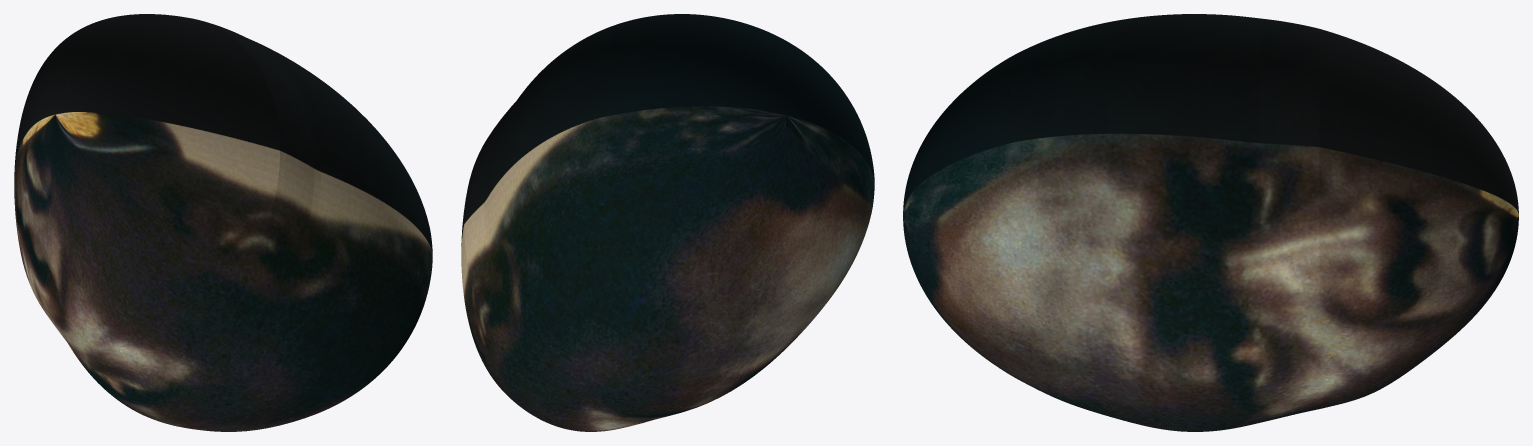
File: idi_amin_face.glb
The picture shows the model from 3 angles, left to right: view 1: azimuth 30°, elevation 25°; view 2: azimuth 150°, elevation 25°; view 3: azimuth 270°, elevation 25°; orthographic projection. The views are drawn at different scales.
Visible parts, largest first — view 1: Idi_Amin_Face; view 2: Idi_Amin_Face; view 3: Idi_Amin_Face.
Boxes of the visible parts, box(x1,y1,x2,y2) form: Idi_Amin_Face: box(14, 14, 432, 431); Idi_Amin_Face: box(461, 14, 874, 431); Idi_Amin_Face: box(903, 14, 1518, 431).
Bounding box in the file's own units: 1.36 × 1.5 × 2.16.
1 material, 1 textured.
